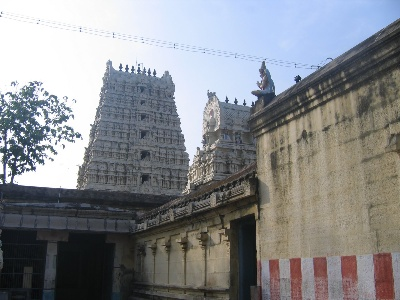gopura: (59, 48, 195, 189)
